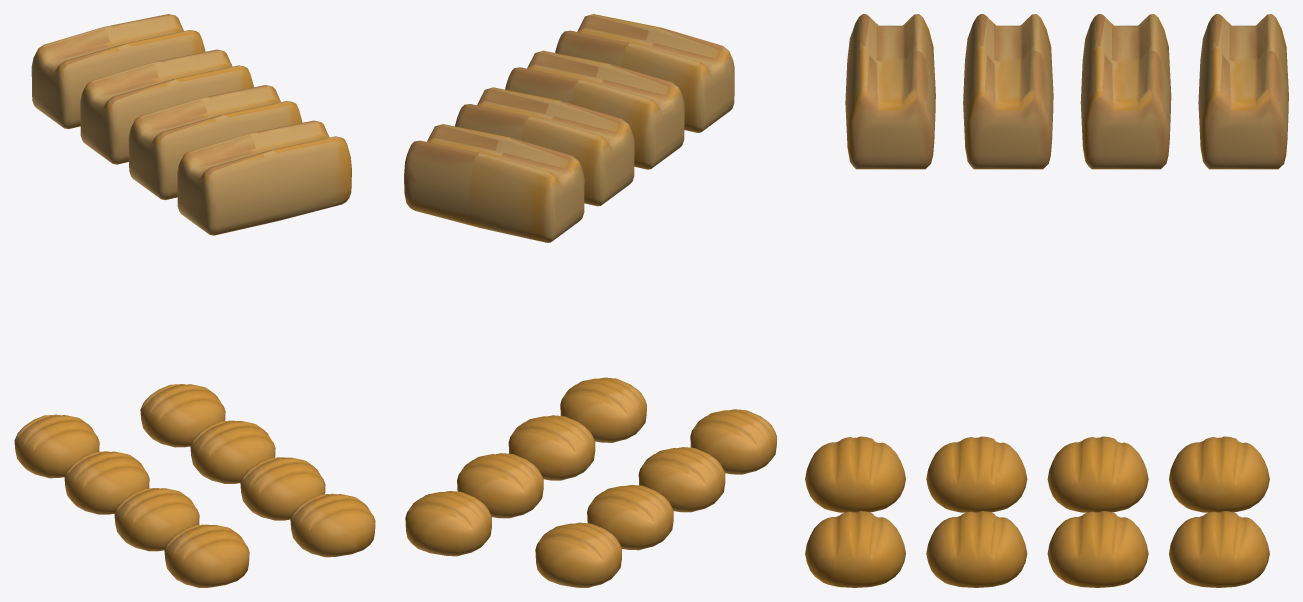
Rendered from CombinedOvenBreads.fbx.
The picture shows the model from 3 angles, left to right: view 1: azimuth 30°, elevation 25°; view 2: azimuth 150°, elevation 25°; view 3: azimuth 270°, elevation 25°; orthographic projection. The views are drawn at different scales.
Visible parts, largest first — view 1: bun.001; view 2: bun.001; view 3: bun.001.
Part boxes in pixels (bbox=[...]): bun.001: bbox=[14, 14, 375, 587]; bun.001: bbox=[404, 14, 776, 587]; bun.001: bbox=[805, 14, 1288, 587].
Bounding box in the file's own units: 76.9 × 151 × 134.
